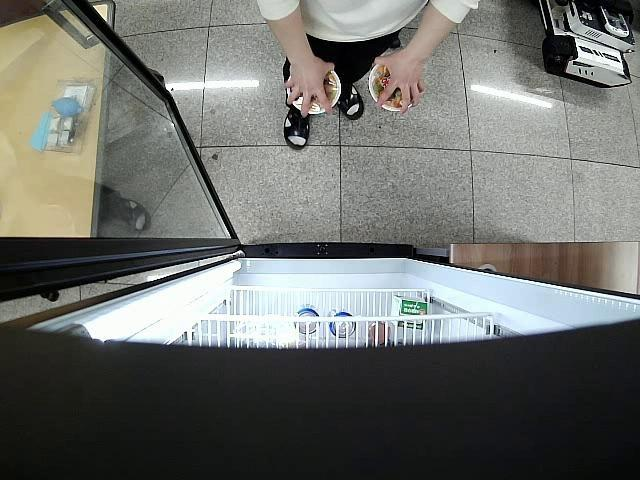09_yukGaeJang: (288, 68, 340, 115), (368, 65, 414, 112)
